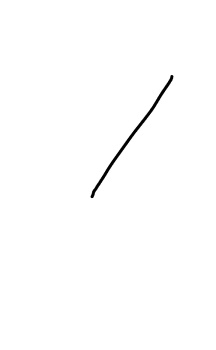Line: (85, 71, 178, 200)
